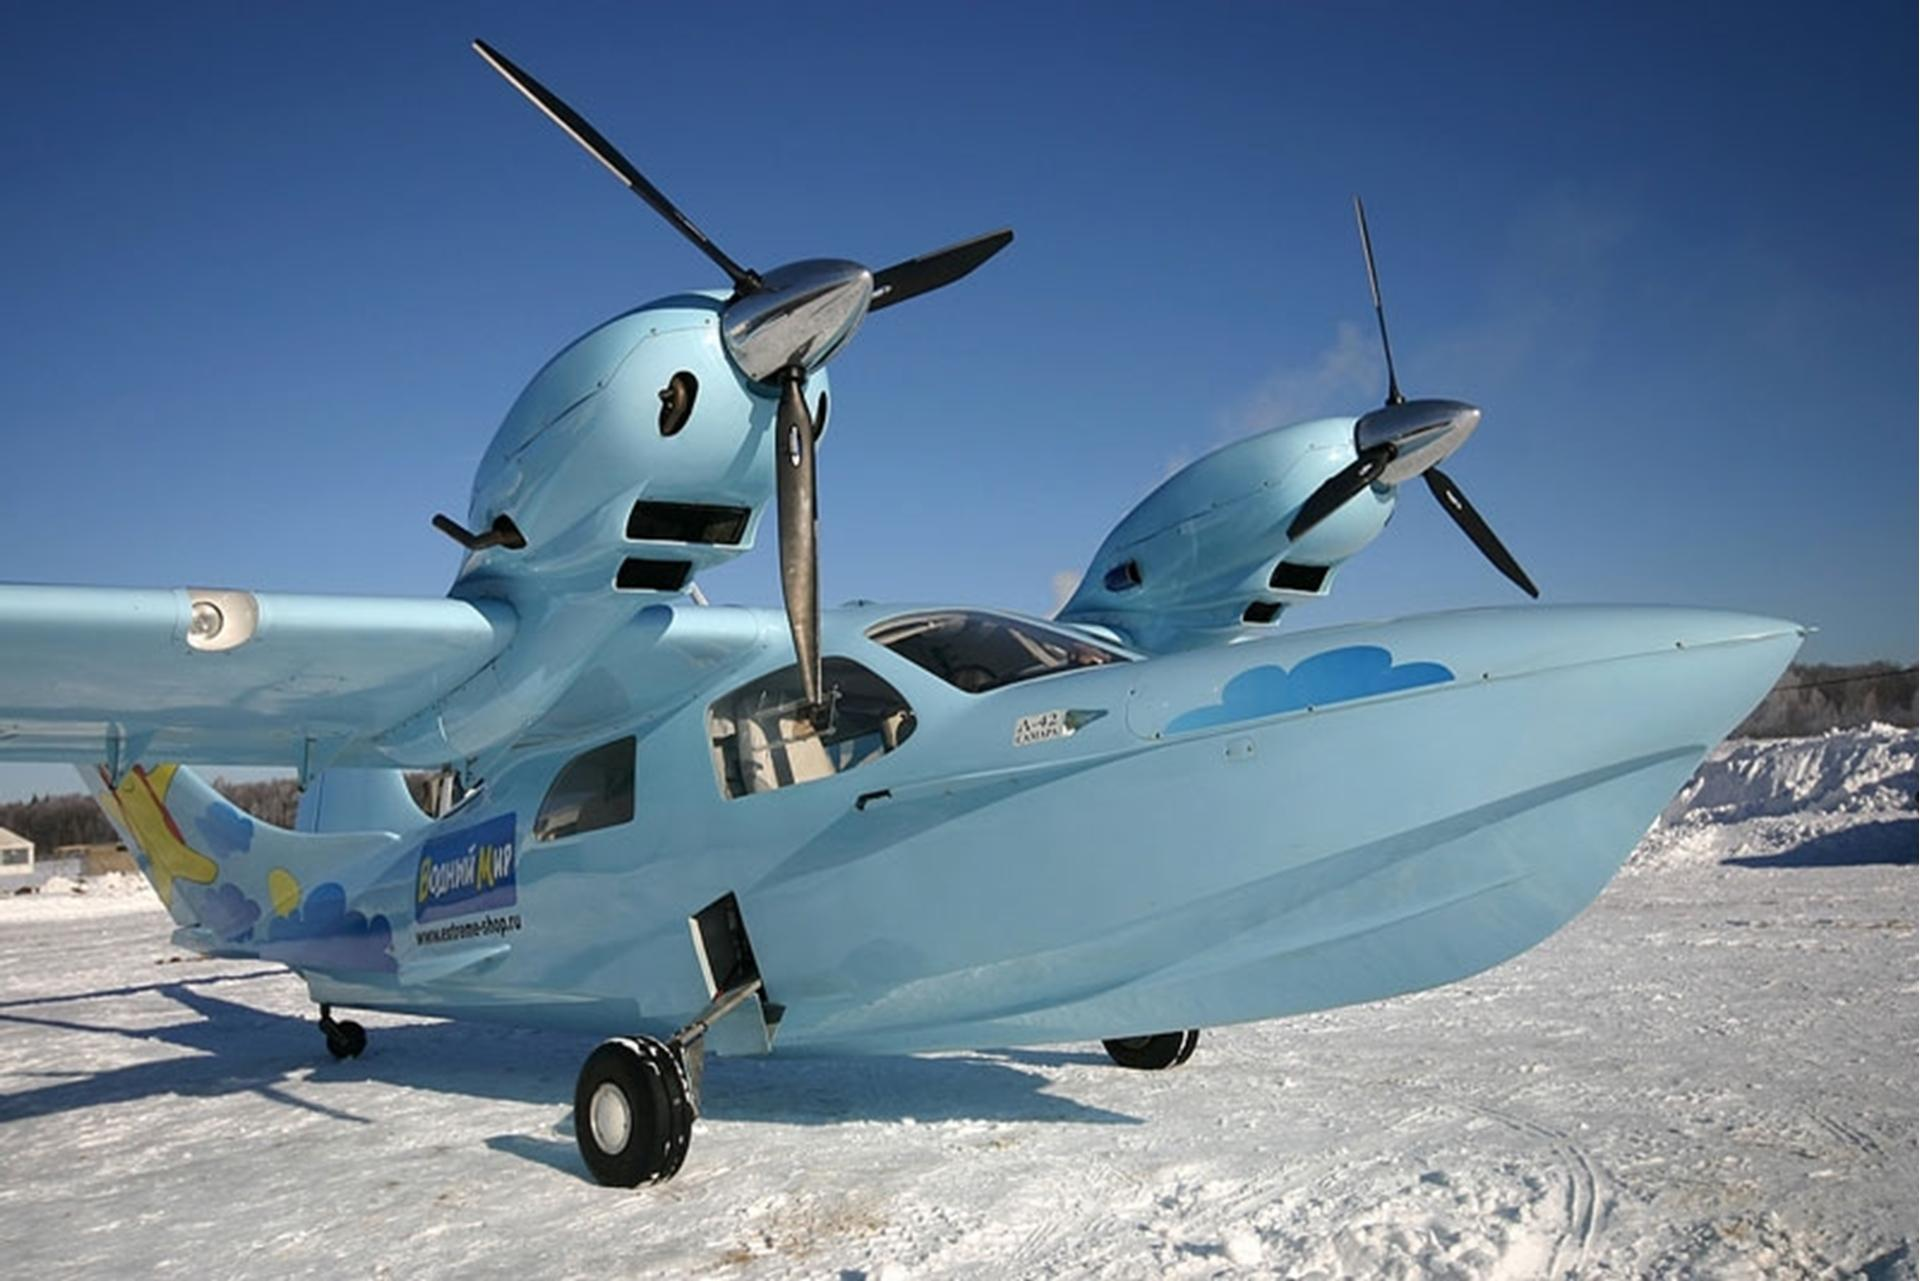Propeller: (485, 41, 1024, 679), (1342, 206, 1563, 606)
